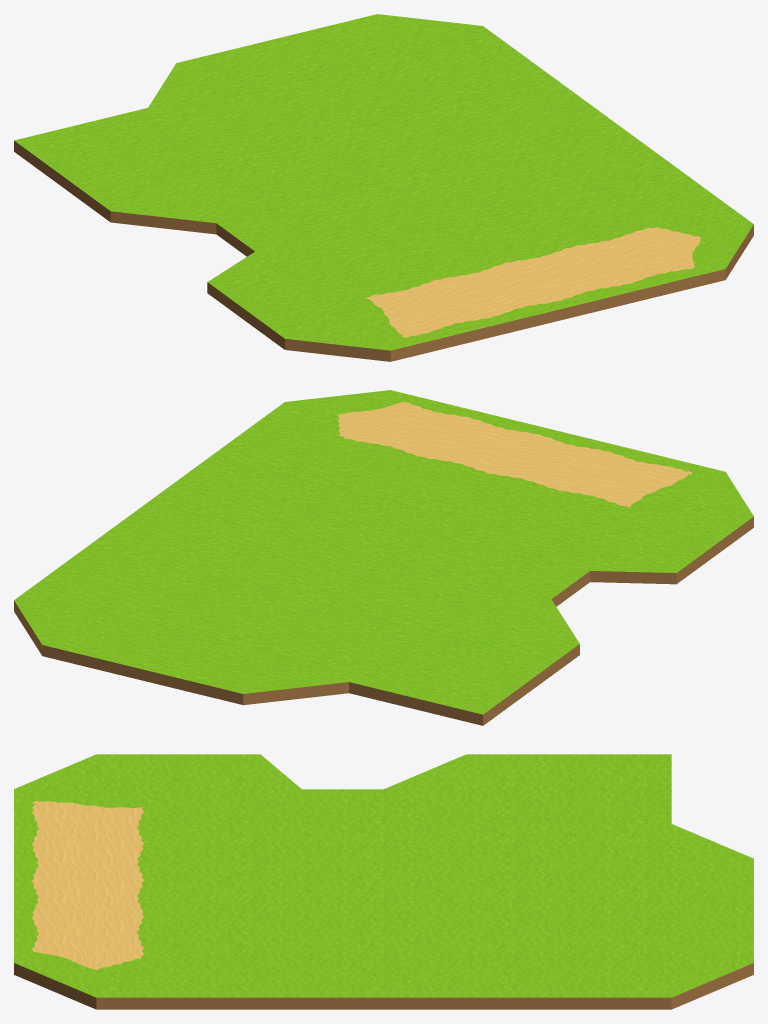
The model's file is surface-level02-C3Uvww8g.glb.
The picture shows the model from 3 angles, top to bottom: view 1: azimuth 30°, elevation 25°; view 2: azimuth 150°, elevation 25°; view 3: azimuth 270°, elevation 25°; orthographic projection. The views are drawn at different scales.
Visible parts, largest first — view 1: FLV5_L02_Surface, FLC_Regions_02; view 2: FLV5_L02_Surface, FLC_Regions_02; view 3: FLV5_L02_Surface, FLC_Regions_02.
Part boxes in pixels (bbox=[...]): FLV5_L02_Surface: bbox=[14, 14, 753, 361]; FLC_Regions_02: bbox=[364, 227, 700, 337]; FLV5_L02_Surface: bbox=[14, 390, 753, 725]; FLC_Regions_02: bbox=[337, 402, 692, 507]; FLV5_L02_Surface: bbox=[14, 754, 753, 1009]; FLC_Regions_02: bbox=[32, 801, 143, 969].
Size of the model in its own units: 14 by 0.324 by 18.
Materials: 3 (2 with a texture image).
